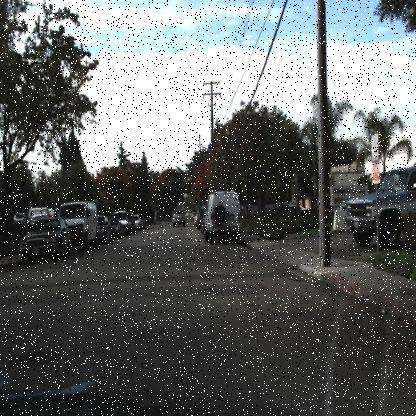car: (342, 166, 416, 252), (17, 214, 76, 261), (199, 188, 244, 247), (63, 199, 100, 248), (170, 206, 186, 232)
